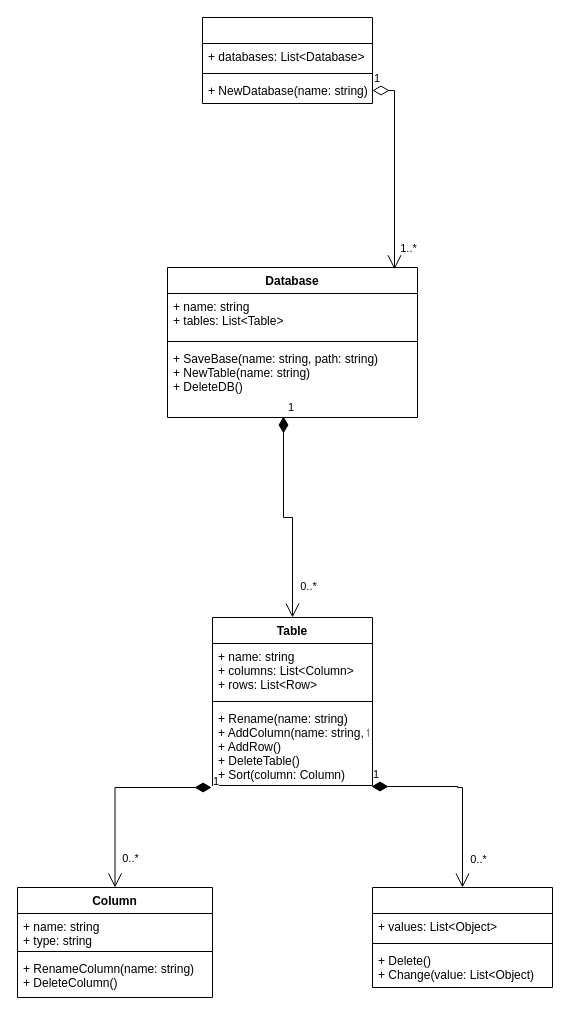
Image size: 570x1018. Some labels were removed from this diagram. Here are the shapes that lost their labels. From the top down, the box of each, then its label:
(202, 16, 372, 104): Manager
(372, 886, 552, 988): Row
